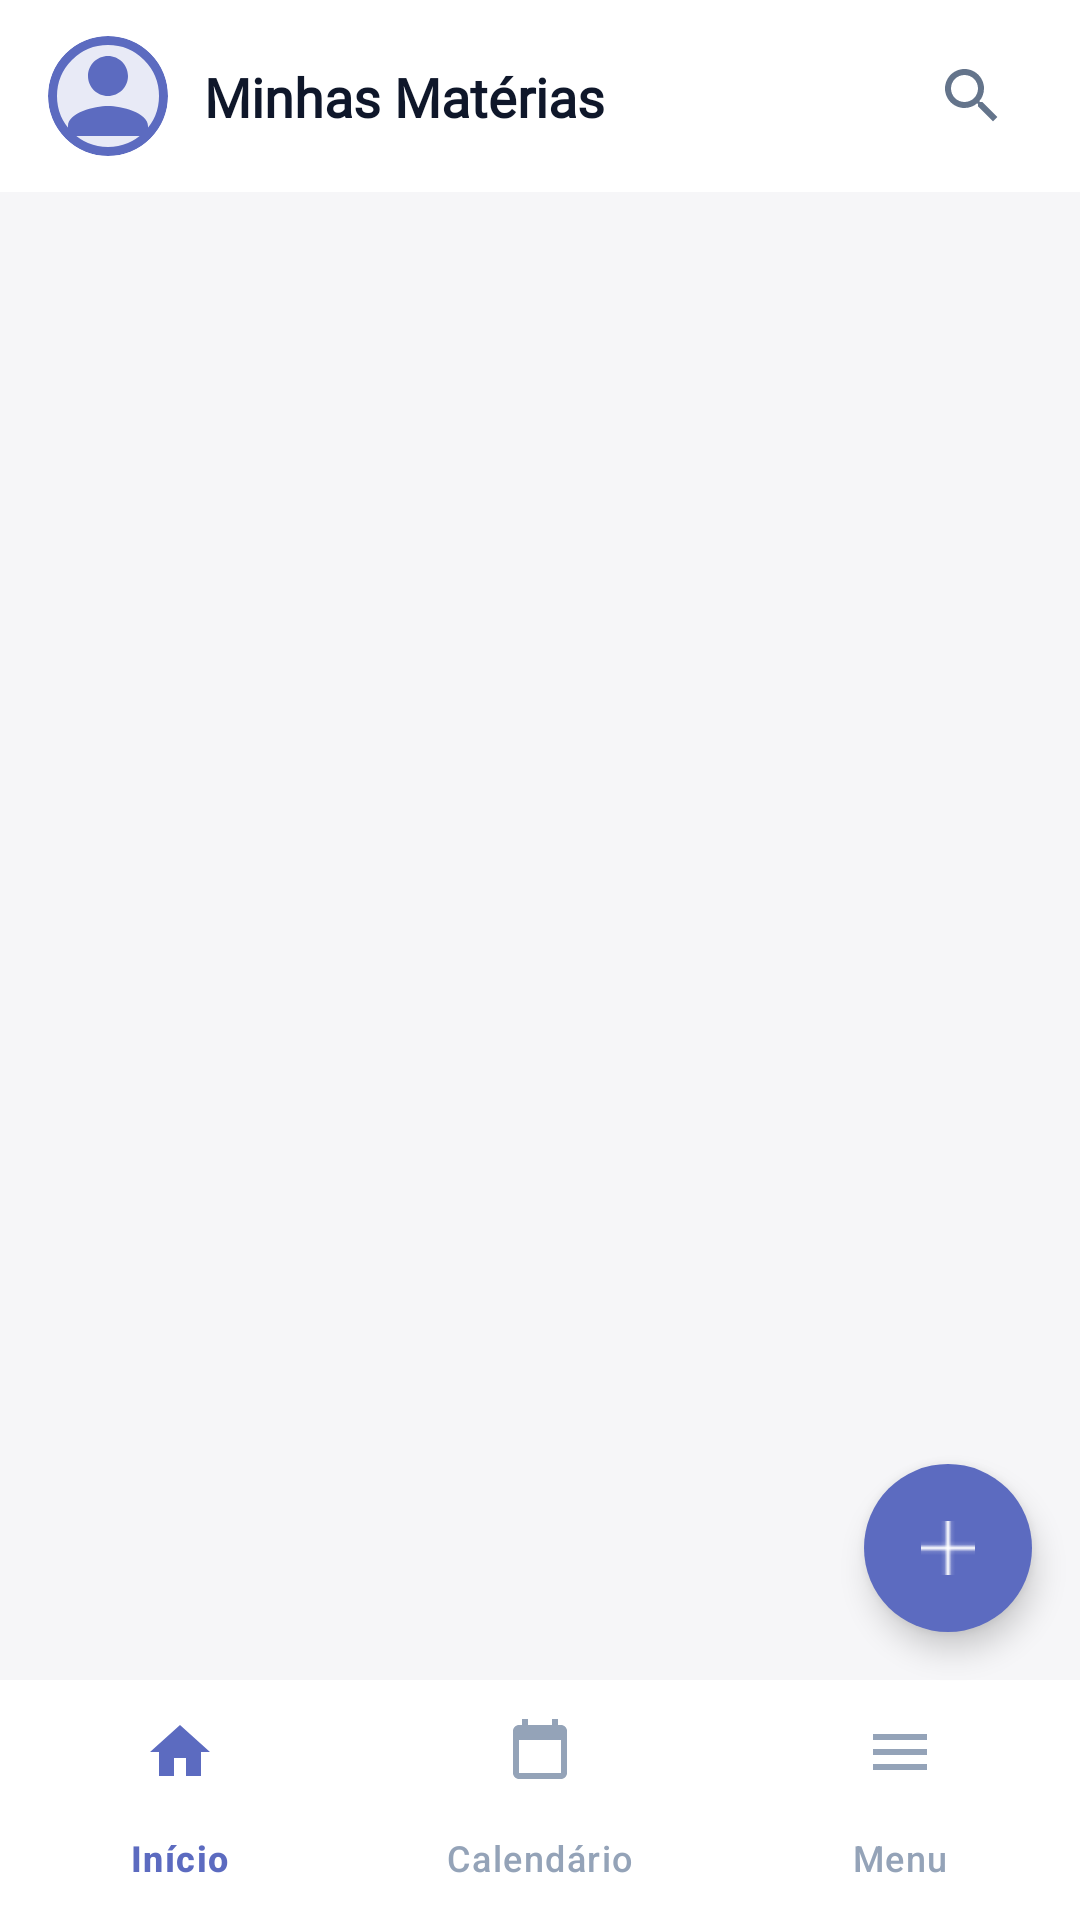

Where to tap for icons on this 1080 × 1920 app screen, as (x=x, y=y):
add: (x=948, y=1548)
Buscar matéria: (x=971, y=95)
